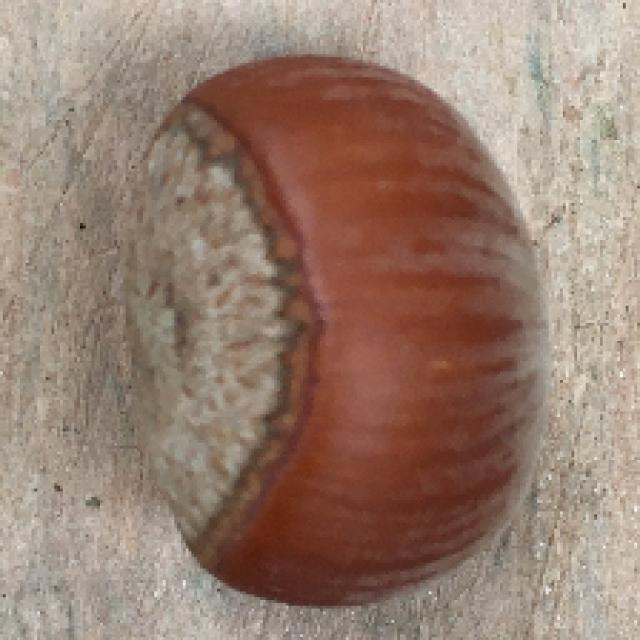qualityHazelnut: (124, 54, 550, 606)
